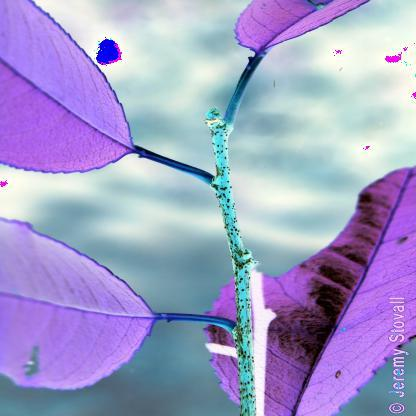Cherry leaf: (188, 150, 412, 412), (6, 0, 168, 175)
